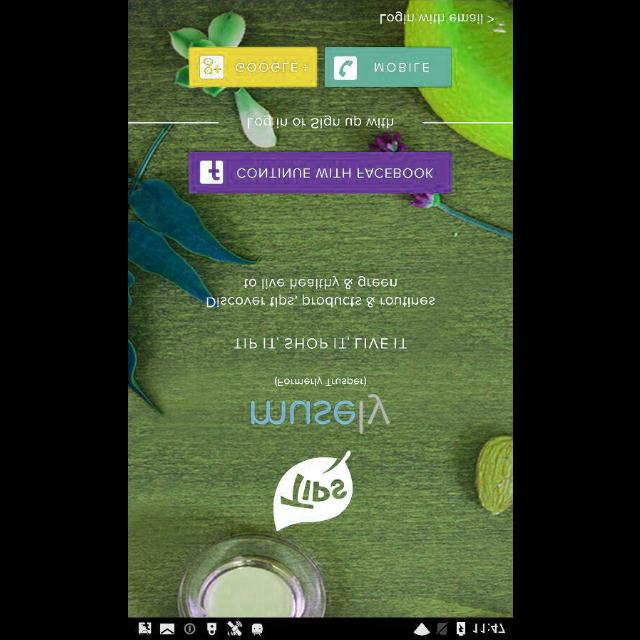backgroundimage: (128, 0, 512, 616)
image: (272, 449, 352, 531), (250, 392, 390, 433)
text: (205, 274, 435, 308), (232, 335, 406, 349), (247, 115, 393, 129), (379, 11, 493, 25), (274, 375, 366, 387)
textbutton: (188, 151, 452, 193), (188, 47, 318, 87), (324, 47, 452, 87)
uppertaskbar: (128, 617, 512, 639)
